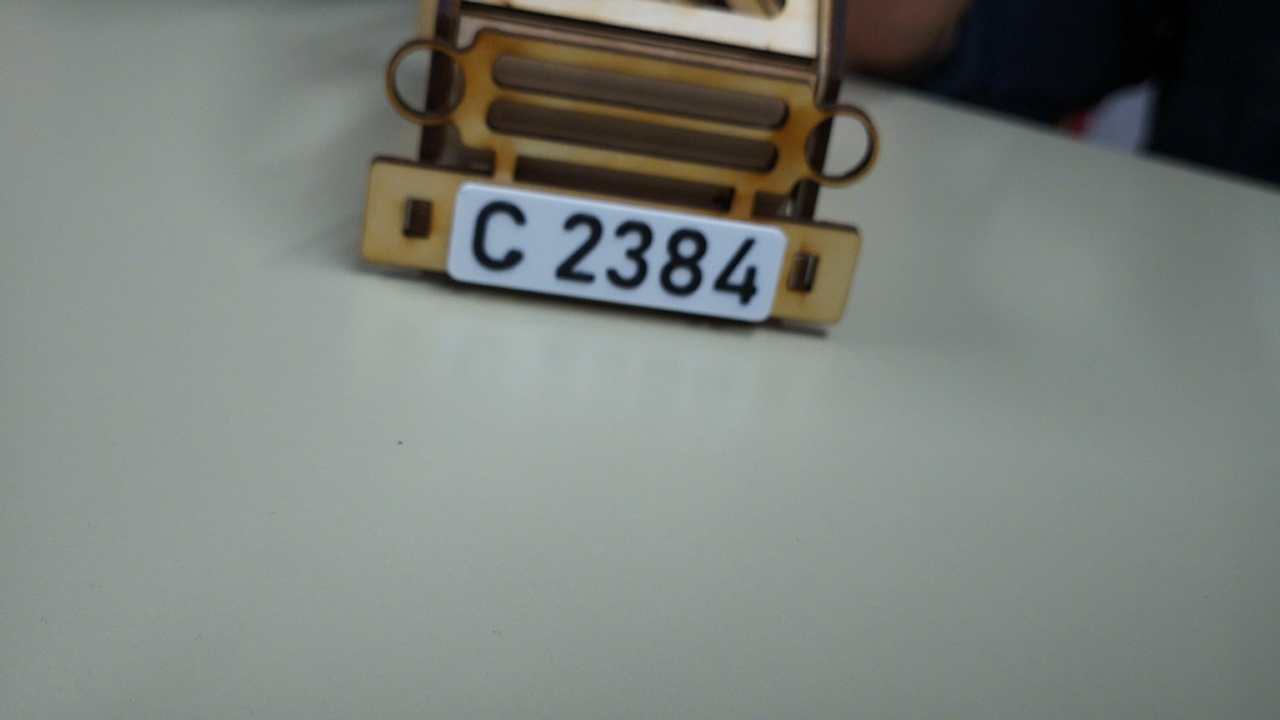license_plate: (444, 181, 791, 323)
